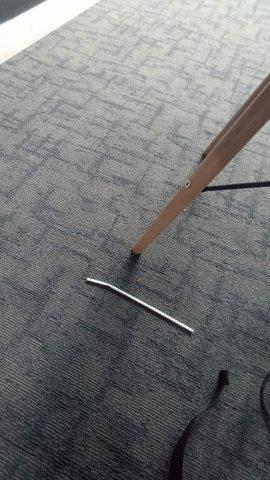sedotan: (86, 278, 194, 333)
